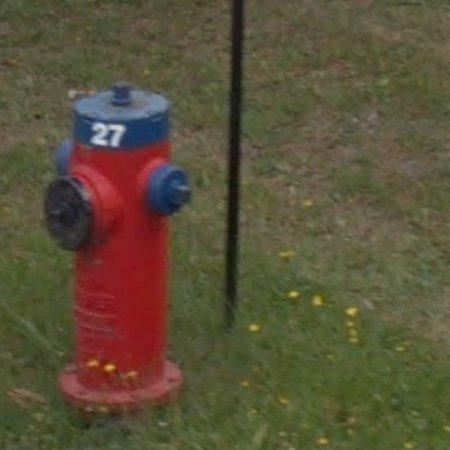a fire hydrant: (45, 82, 191, 410)
